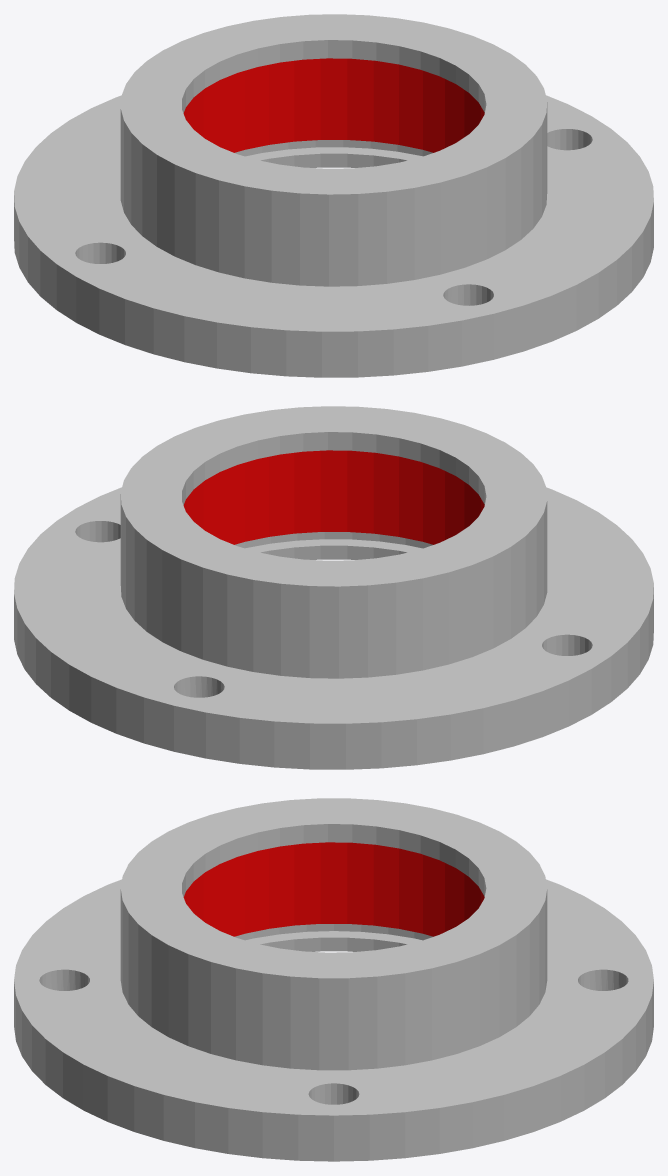
Rendered from 963502_RW44_IT6_stp_7_8.obj.
The picture shows the model from 3 angles, top to bottom: view 1: azimuth 30°, elevation 25°; view 2: azimuth 150°, elevation 25°; view 3: azimuth 270°, elevation 25°; orthographic projection.
Parts seen in each view (by area): view 1: Object1; view 2: Object1; view 3: Object1.
Part boxes in pixels (x1,y1,x2,y2): Object1: [14, 14, 653, 377]; Object1: [14, 406, 653, 769]; Object1: [14, 798, 653, 1161].
Size of the model in its own units: 63 by 15 by 63.
